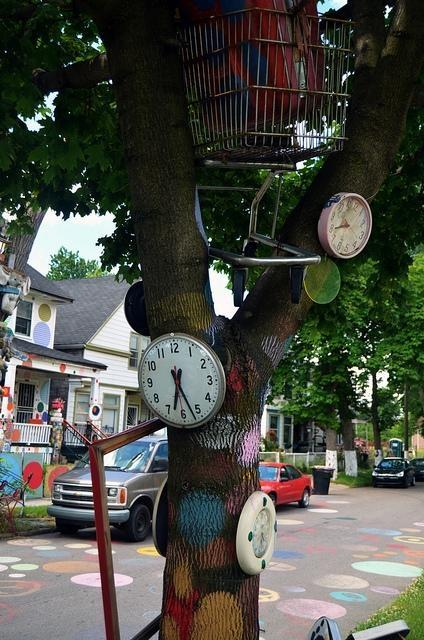car: (48, 435, 171, 541), (262, 461, 312, 507), (370, 454, 418, 490), (411, 458, 424, 480)
